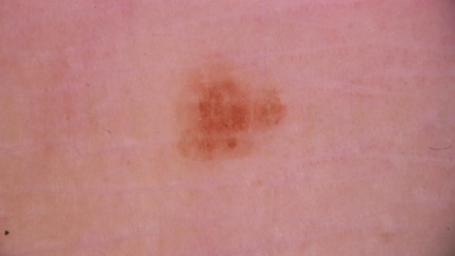melanoma: (179, 79, 288, 161)
